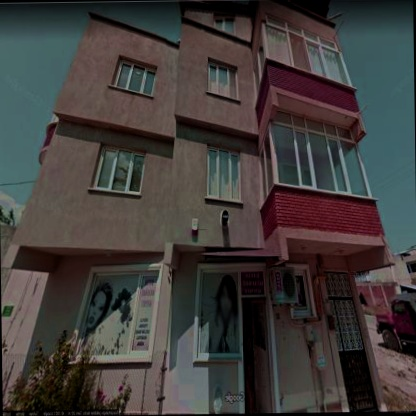door: (324, 271, 377, 411), (242, 298, 275, 413)
